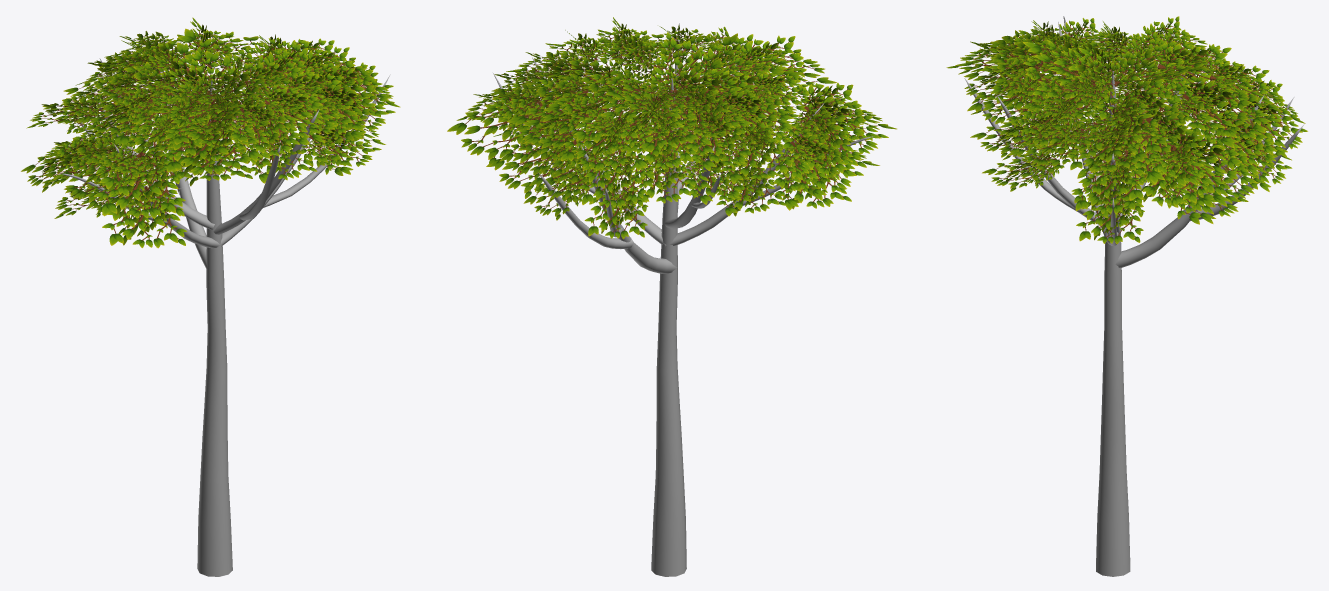
Rendered from Fully_Grown.fbx.
3 renders of one model, left to right at view 1: azimuth 30°, elevation 25°; view 2: azimuth 150°, elevation 25°; view 3: azimuth 270°, elevation 25°, orthographic.
Parts seen in each view (by area): view 1: Leaves_FullyGrown, Tree_FullyGrown; view 2: Leaves_FullyGrown, Tree_FullyGrown; view 3: Leaves_FullyGrown, Tree_FullyGrown.
Part boxes in pixels (x1,y1,x2,y2): Leaves_FullyGrown: (21, 17, 400, 248); Tree_FullyGrown: (60, 36, 390, 576); Leaves_FullyGrown: (447, 17, 896, 239); Tree_FullyGrown: (493, 23, 873, 576); Leaves_FullyGrown: (946, 16, 1307, 243); Tree_FullyGrown: (964, 16, 1304, 576).
Size of the model in its own units: 4.56 by 5.98 by 3.94.
